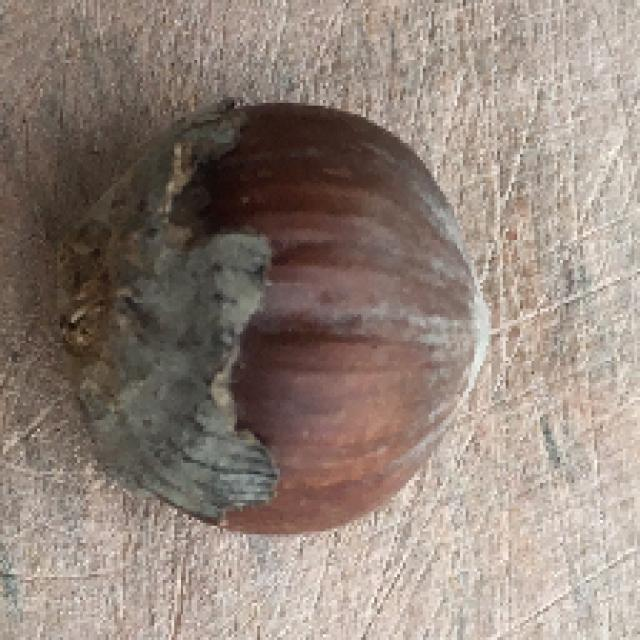damagedHazelnut: (55, 97, 498, 543)
